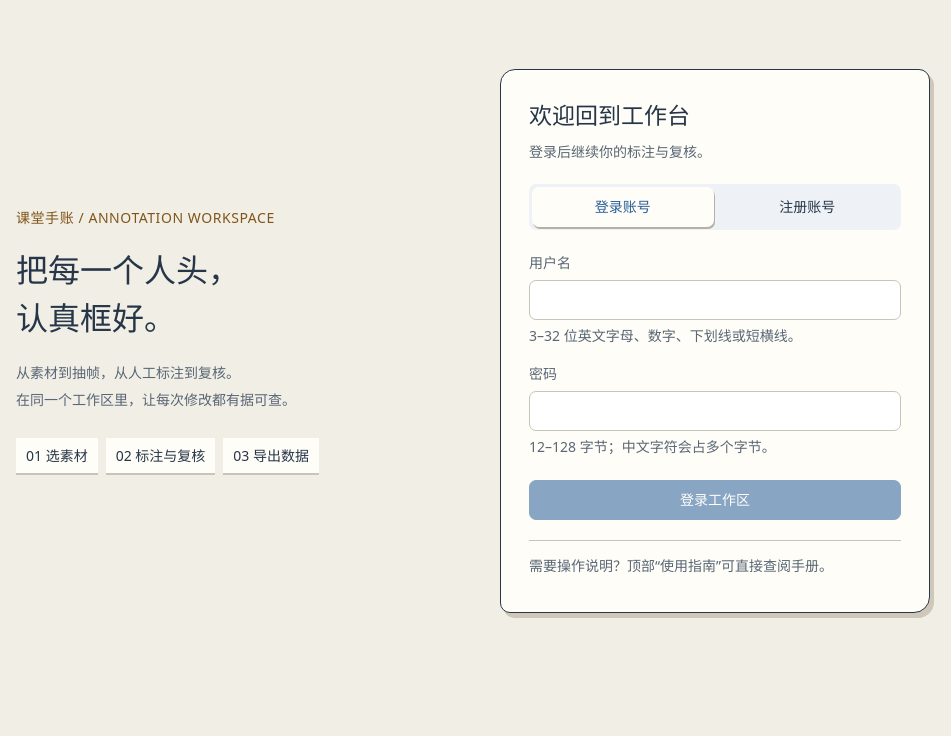
Test: shows failed registration and never grants workspace access
Click the button "注册账号" at coordinates (807, 207), box [716,187,898,227]
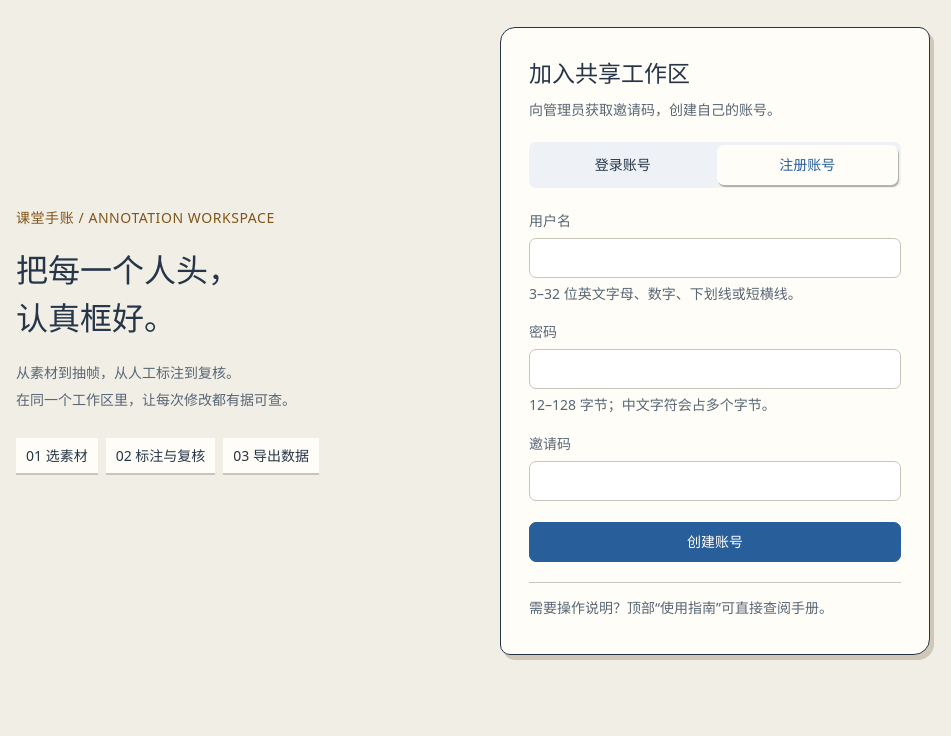
Type "member" into the field labelled "用户名" at coordinates (715, 258), box [529,238,901,278]
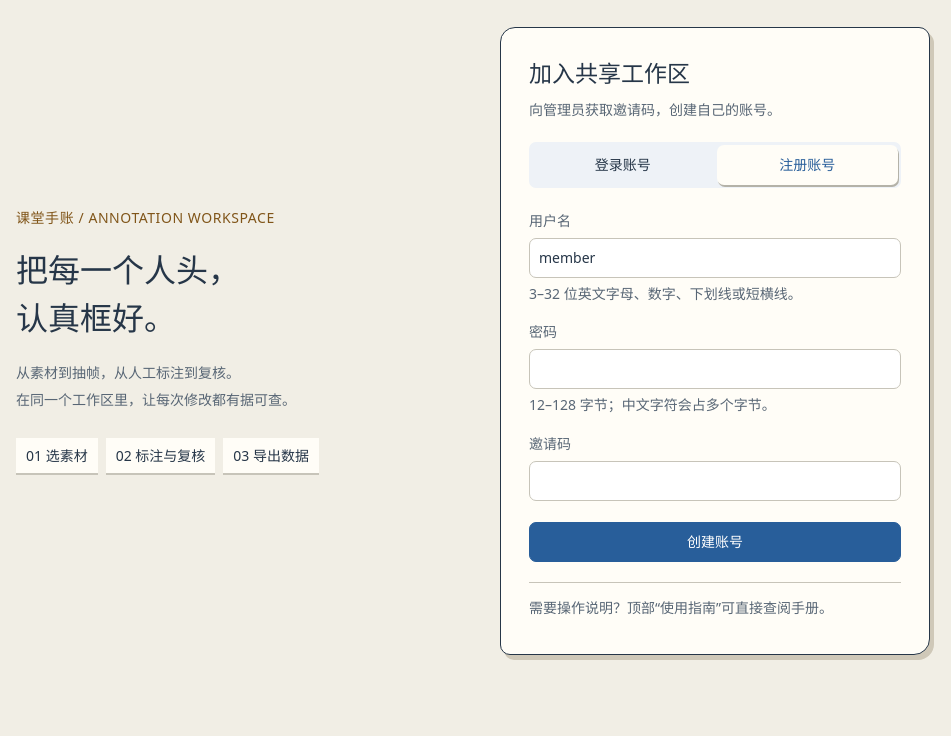
Type "synthetic-password" into the password field labelled "密码" at coordinates (715, 369), box [529,349,901,389]
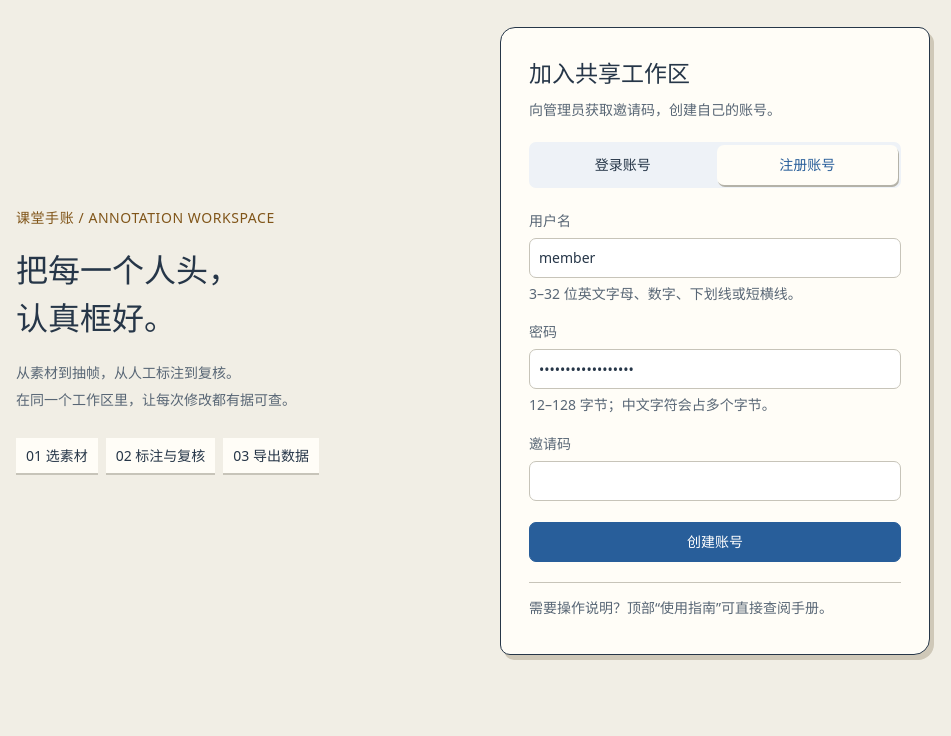
Type "wrong-invite" into the field labelled "邀请码" at coordinates (715, 481), box [529,461,901,501]
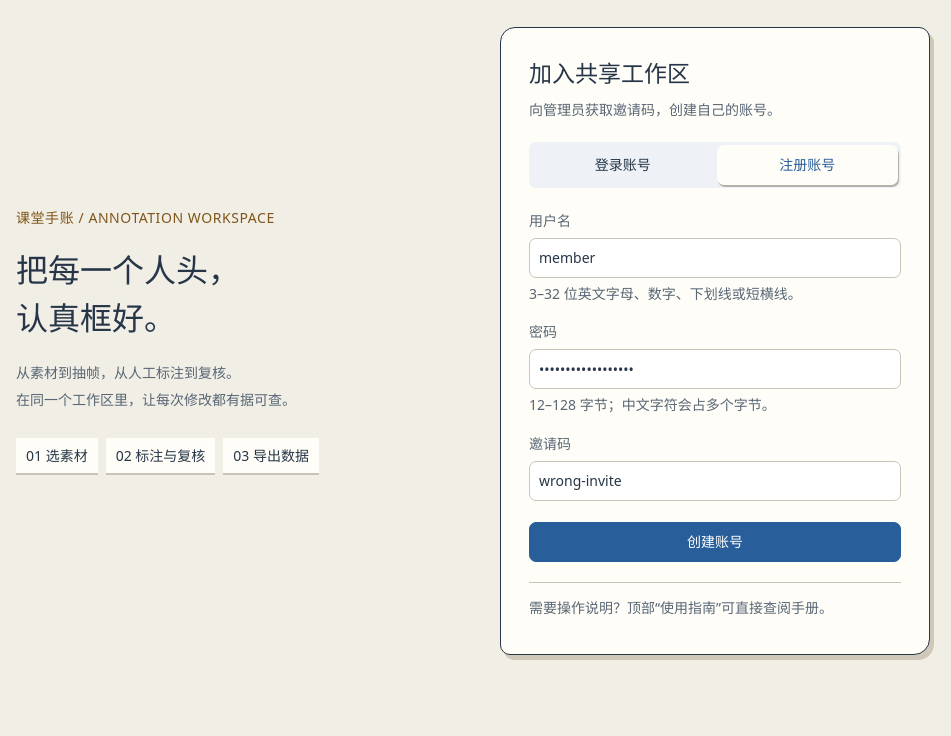
Click the button "创建账号" at coordinates (715, 542), box [529,522,901,562]
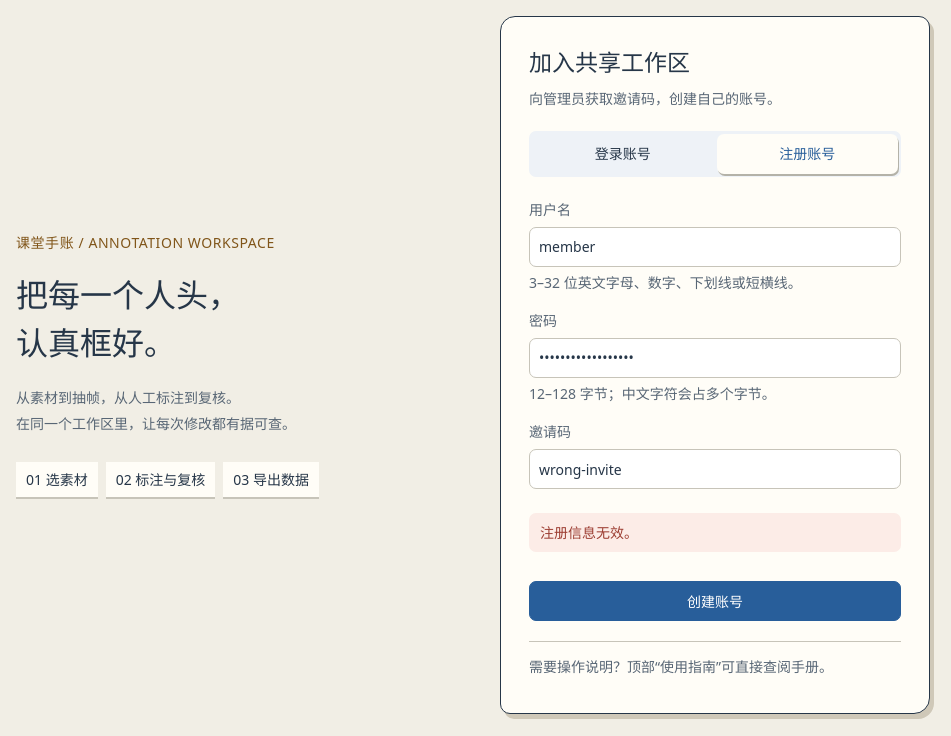
Check: the message shows "注册信息无效", box [540,523,638,542]
